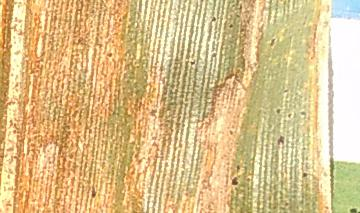tarspot: (273, 133, 288, 147), (87, 184, 100, 199), (229, 173, 241, 188), (186, 55, 197, 69), (209, 48, 220, 62), (268, 35, 277, 50), (299, 168, 309, 180), (225, 21, 238, 30), (104, 51, 115, 61), (274, 105, 282, 118), (234, 162, 243, 173), (298, 108, 307, 118), (209, 15, 217, 25)
